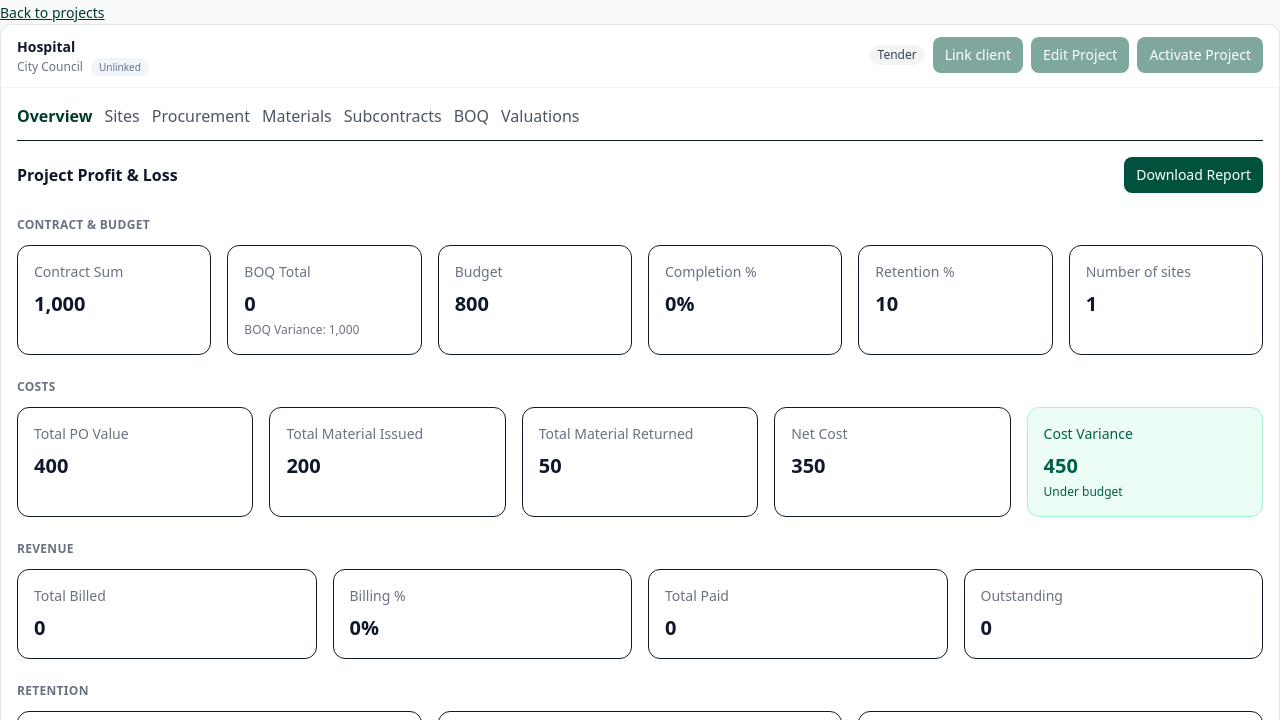
Test case: project detail procurement sites (P2-4) › hides procurement link controls without the manage capability
Expected: the heading "Hospital" is shown, top-left (17, 37), bottom-right (75, 56)
Click the tab "Sites".
click(122, 116)  # box top-left (104, 104), bottom-right (140, 128)
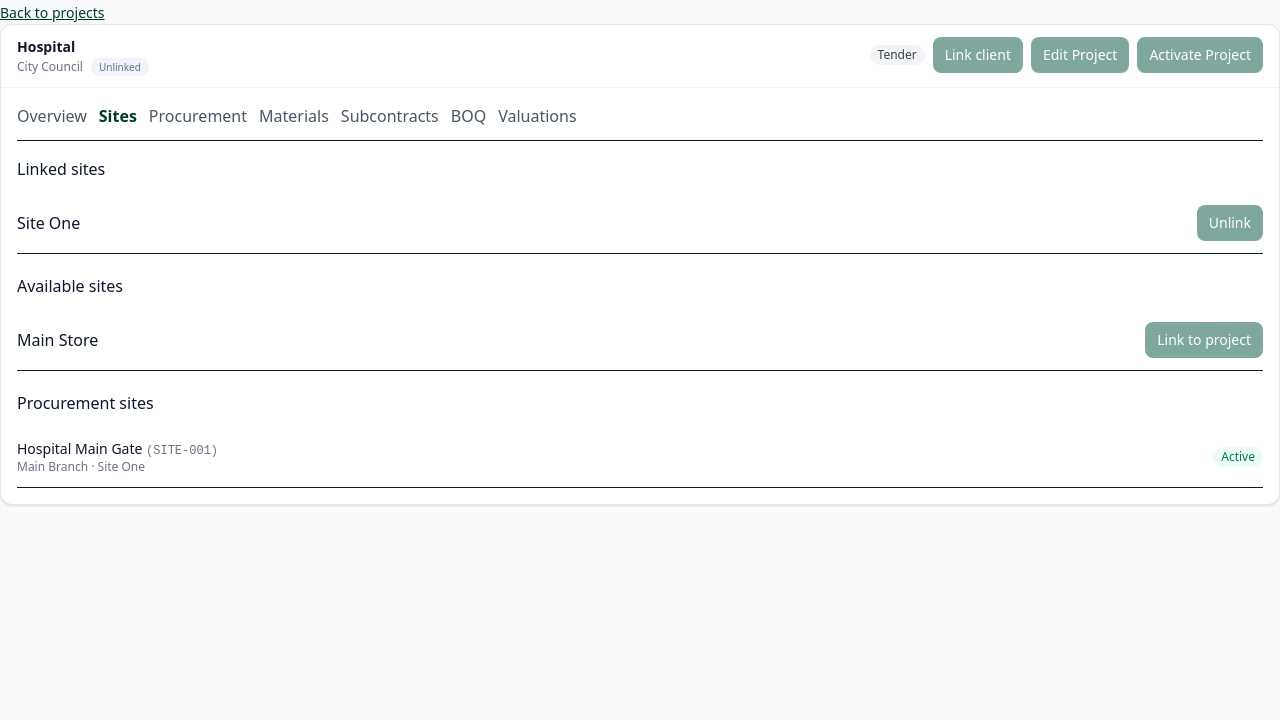
Now the text "Hospital Main Gate" is shown, box top-left (17, 439), bottom-right (142, 458)
